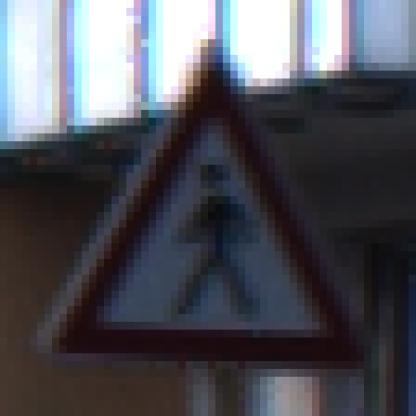crosswalk: (36, 36, 391, 395)
